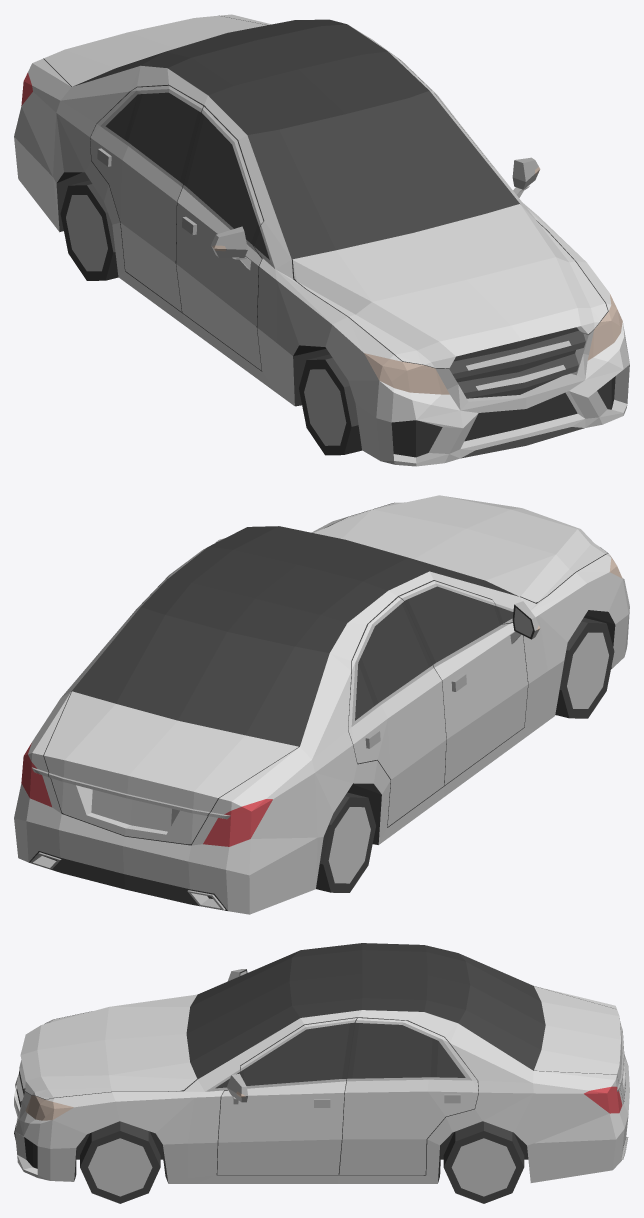
Rendered from CarSedan2Silver.fbx.
3 renders of one model, top to bottom at view 1: azimuth 30°, elevation 25°; view 2: azimuth 150°, elevation 25°; view 3: azimuth 270°, elevation 25°, orthographic. The views are drawn at different scales.
Visible parts, largest first — view 1: Cube, wheel_fr, wheel_rr; view 2: Cube, wheel_rr, wheel_fr; view 3: Cube, wheel_rl, wheel_fl.
Part boxes in pixels (left/top/right/bottom): Cube: left=14, top=14, right=629, bottom=466; wheel_fr: left=299, top=354, right=361, bottom=455; wheel_rr: left=60, top=180, right=118, bottom=280; Cube: left=14, top=495, right=629, bottom=914; wheel_rr: left=316, top=792, right=375, bottom=892; wheel_fr: left=555, top=617, right=614, bottom=718; Cube: left=14, top=943, right=629, bottom=1183; wheel_rl: left=443, top=1121, right=524, bottom=1203; wheel_fl: left=80, top=1121, right=160, bottom=1203.
Bounding box in the file's own units: 2.38 × 1.66 × 5.11.
